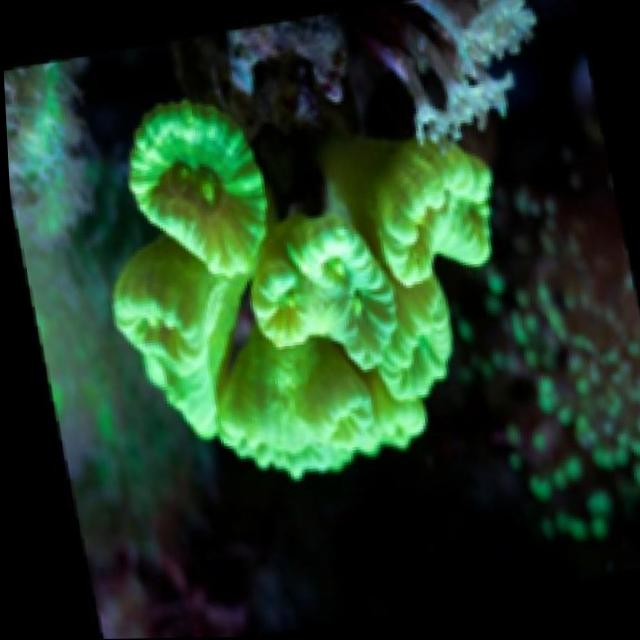Healthy Coral: (64, 57, 548, 548)
